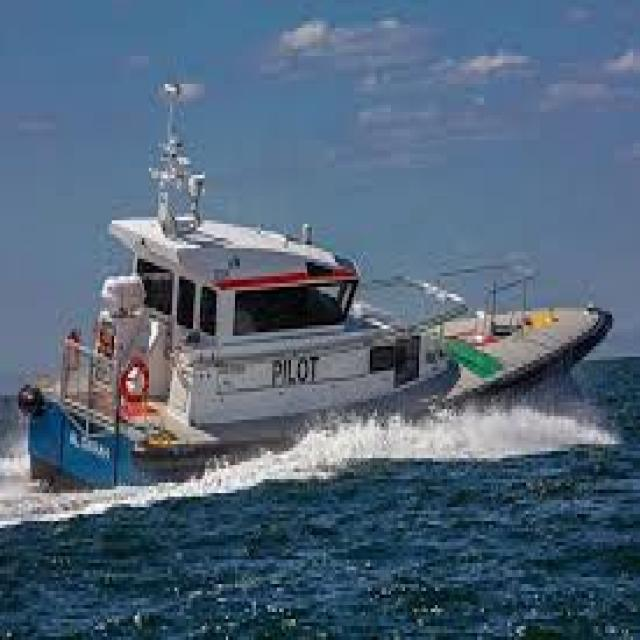houseboat: (15, 77, 612, 496)
